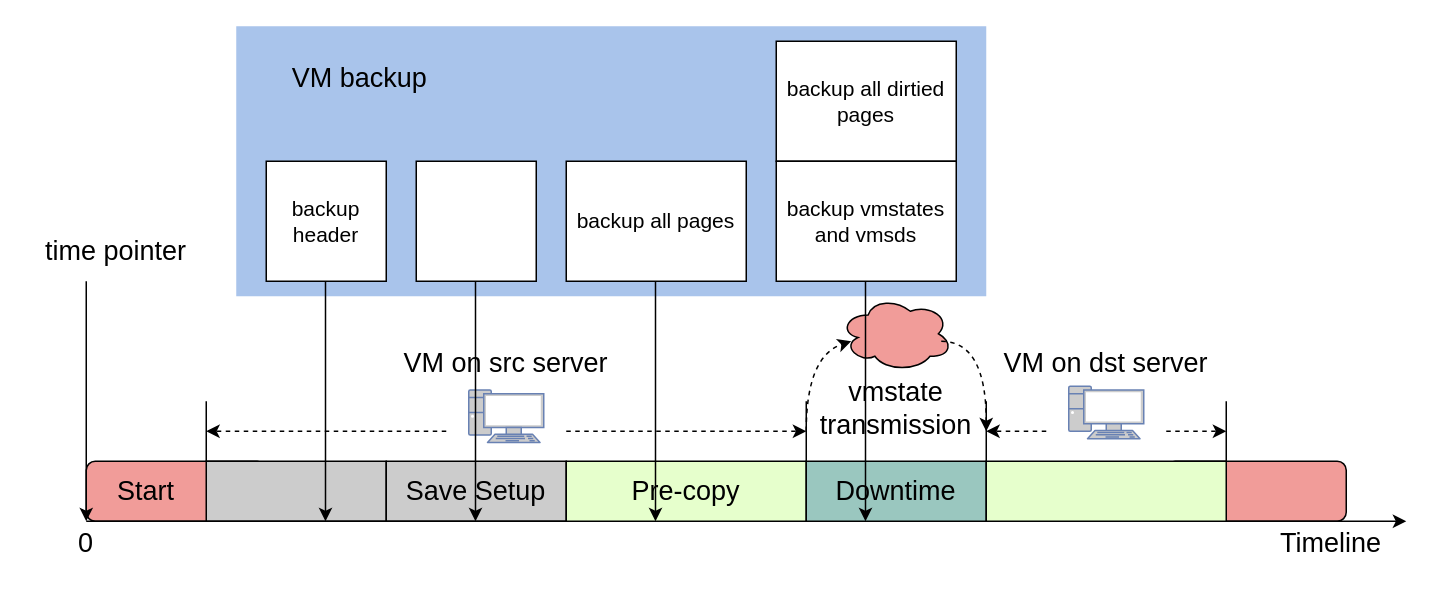
The diagram is 1445 pixels wide and 591 high, and some of its shapes have lost their labels. Each missing label, with the centre of its shape:
backup setup: [475,220]
End: [1255,490]
Post-copy: [1105,490]
Save Header: [295,490]
